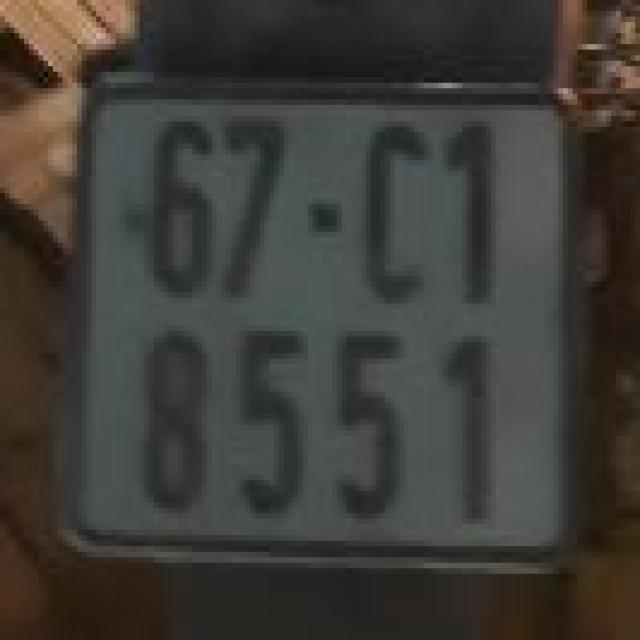1: (445, 326, 513, 535), (440, 108, 503, 328)
5: (322, 306, 418, 522), (229, 320, 315, 530)
6: (135, 110, 221, 304)
7: (222, 99, 294, 309)
8: (125, 309, 221, 535)
C: (361, 91, 428, 306)
